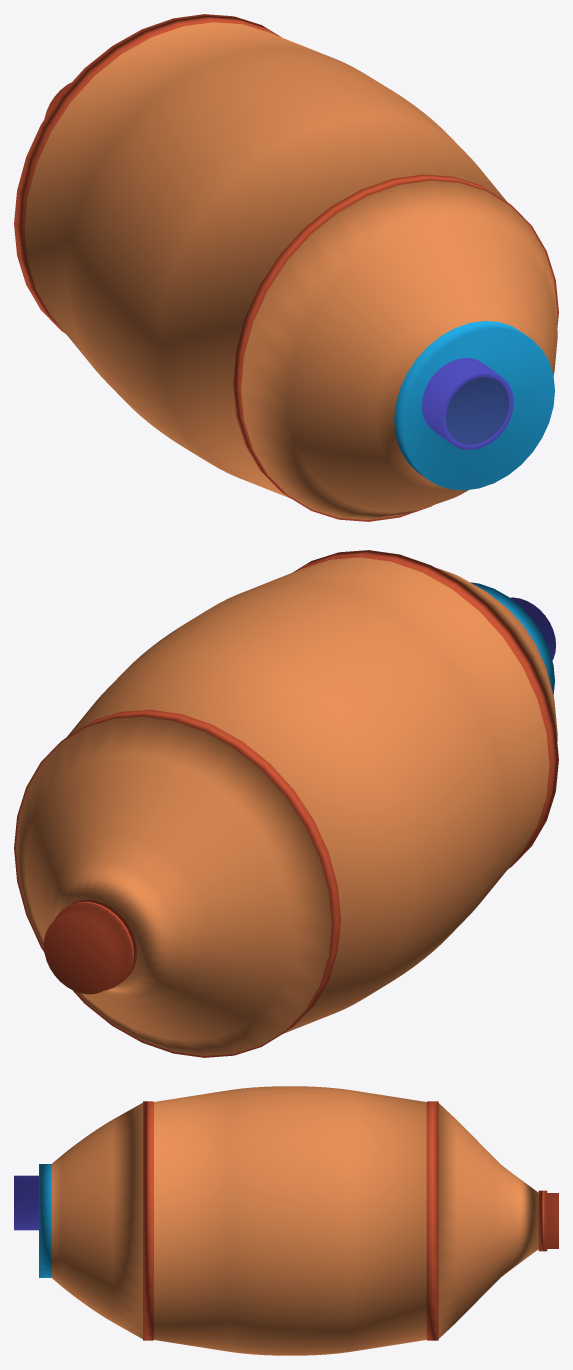
File: Nafas_AmbuBag_Ngembang.fbx
3 renders of one model, top to bottom at view 1: azimuth 30°, elevation 25°; view 2: azimuth 150°, elevation 25°; view 3: azimuth 270°, elevation 25°, orthographic. The views are drawn at different scales.
Parts seen in each view (by area): view 1: Cylinder.001; view 2: Cylinder.001; view 3: Cylinder.001.
Part boxes in pixels (left/top/right/bottom): Cylinder.001: left=14, top=14, right=558, bottom=521; Cylinder.001: left=14, top=550, right=558, bottom=1057; Cylinder.001: left=14, top=1086, right=558, bottom=1355.
Size of the model in its own units: 298 by 298 by 601.
